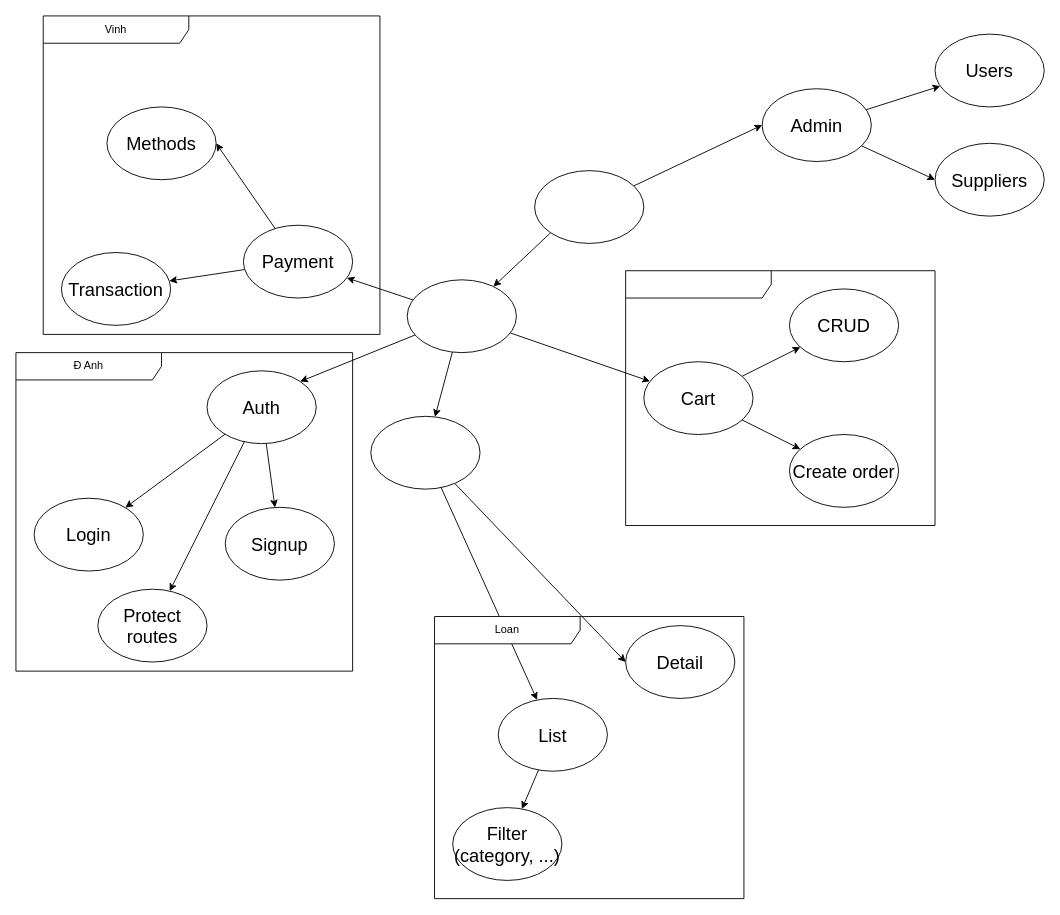
Some shapes in this 1060 by 915 pixel diagram are drawn without their labels. The shapes that lost their labels are listed below. From the top down, each one's box as (x1, y1, x2, y2) in pixels, then its label:
(534, 170, 644, 243): App
(406, 279, 516, 353): Client
(625, 270, 935, 526): Tuyết
(370, 415, 480, 489): Product
